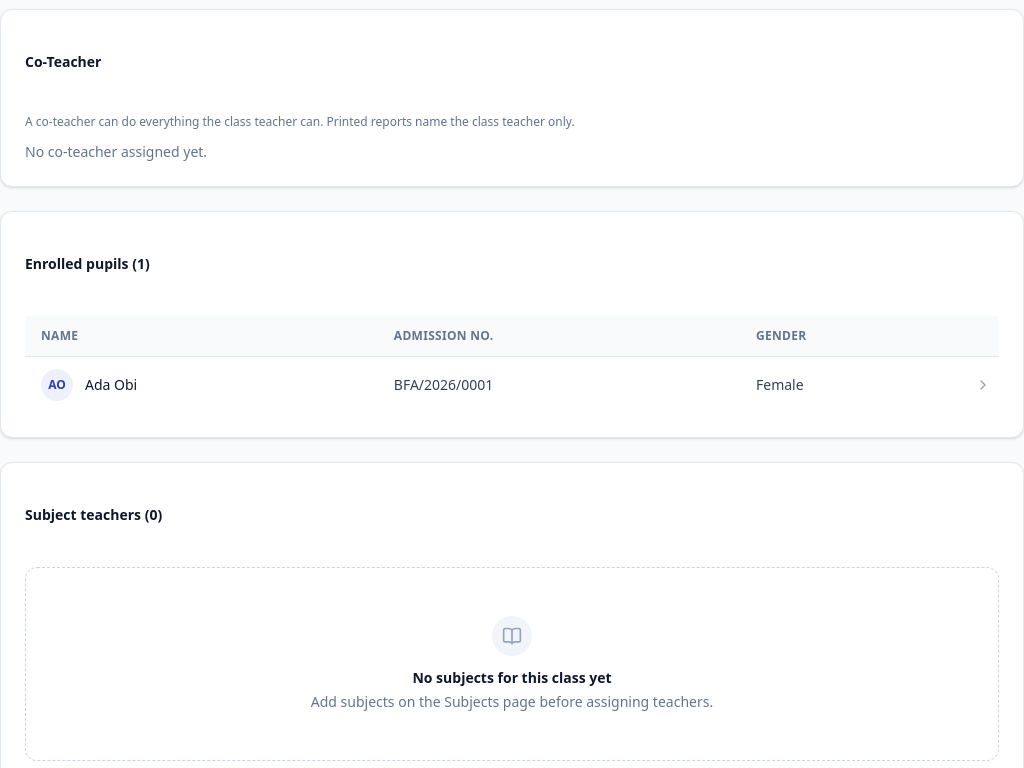
Test case: ClassDetailPage - enrolled students roster › lets a TEACHER open the read-only medical modal instead of navigating
The width and height of the screenshot is (1024, 768).
(page scrolled)
Click the text "Ada Obi" at (57, 385), box [25,356,999,413]
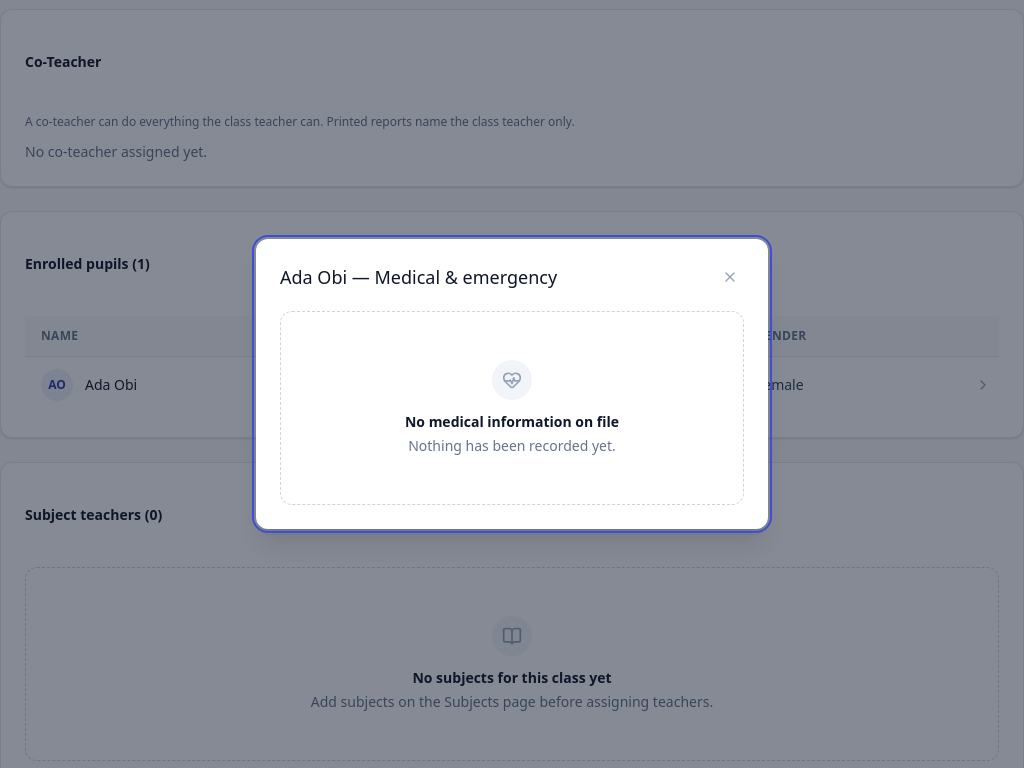
Now the heading "Ada Obi — Medical & emergency" is shown, box [280,263,557,291]
